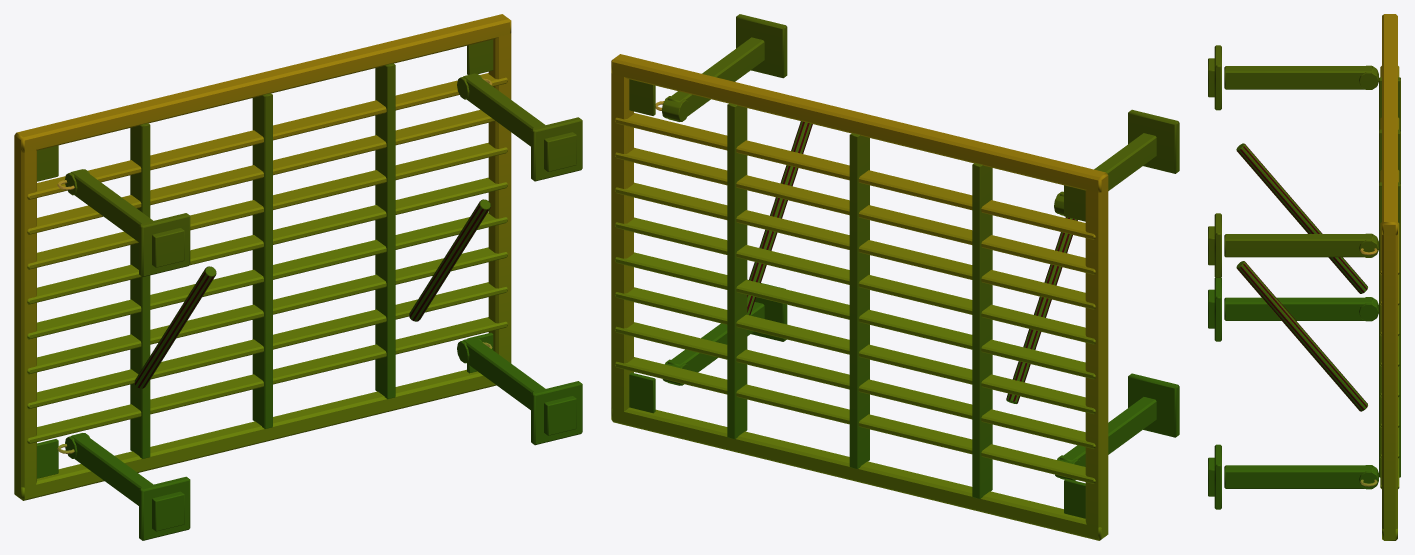
Rendered from RCLModule_heavy_artillery_martian_iron_rust_era.fbx.
3 views of the same model, side by side, from view 1: azimuth 30°, elevation 25°; view 2: azimuth 150°, elevation 25°; view 3: azimuth 270°, elevation 25° (orthographic). The views are drawn at different scales.
Parts seen in each view (by area): view 1: RCLModule_heavy_artillery_martian_iron_rust_era_Batch_RCLMod (×2); view 2: RCLModule_heavy_artillery_martian_iron_rust_era_Batch_RCLMod (×2); view 3: RCLModule_heavy_artillery_martian_iron_rust_era_Batch_RCLMod (×2).
Boxes of the visible parts, x1,y1,x2,y2 form: RCLModule_heavy_artillery_martian_iron_rust_era_Batch_RCLMod (×2): (14, 14, 582, 540); RCLModule_heavy_artillery_martian_iron_rust_era_Batch_RCLMod (×2): (611, 14, 1179, 540); RCLModule_heavy_artillery_martian_iron_rust_era_Batch_RCLMod (×2): (1208, 14, 1400, 540).
Bounding box in the file's own units: 68 × 48.2 × 26.4.
